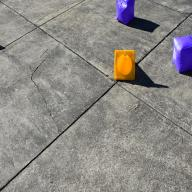cone: (114, 50, 136, 81)
cube: (172, 34, 192, 74), (115, 0, 135, 25)
